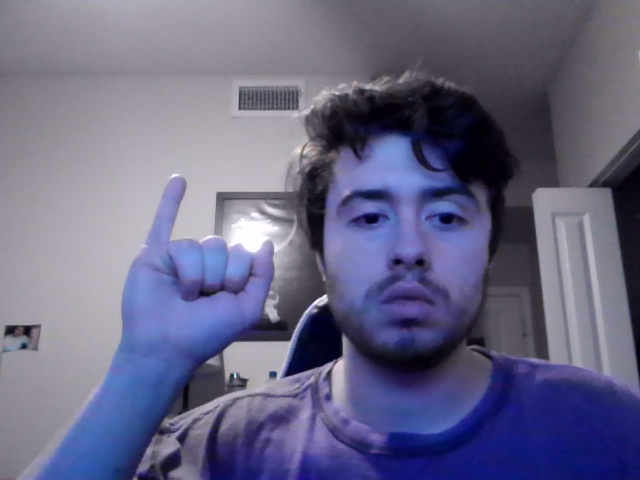i: (121, 173, 276, 373)
